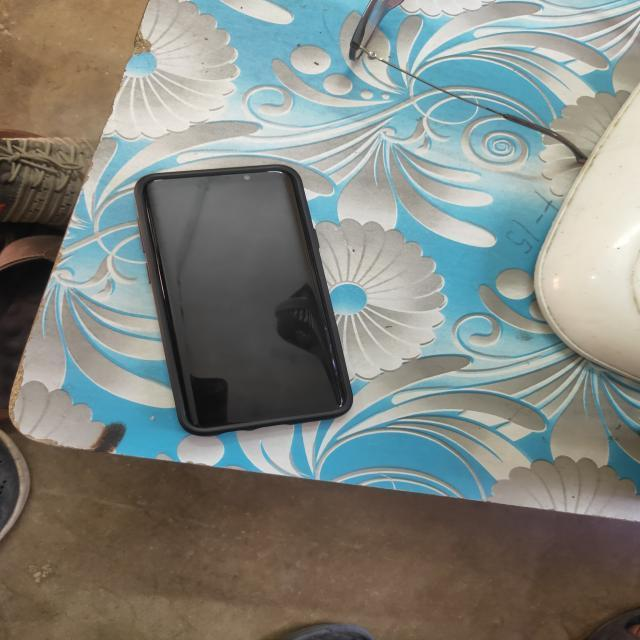Phone: (132, 164, 362, 439)
